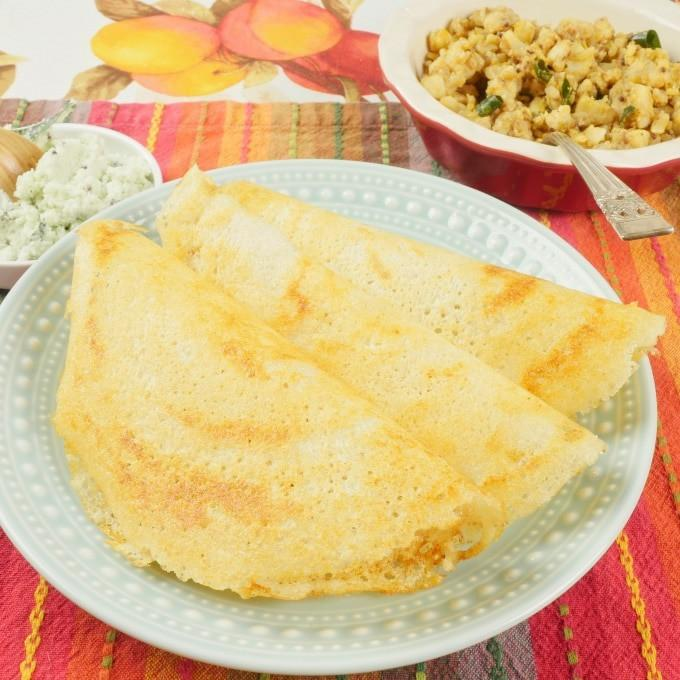CoconutChutney: (0, 139, 150, 261)
Dosa: (55, 217, 502, 598), (155, 167, 607, 518), (222, 177, 665, 423)
